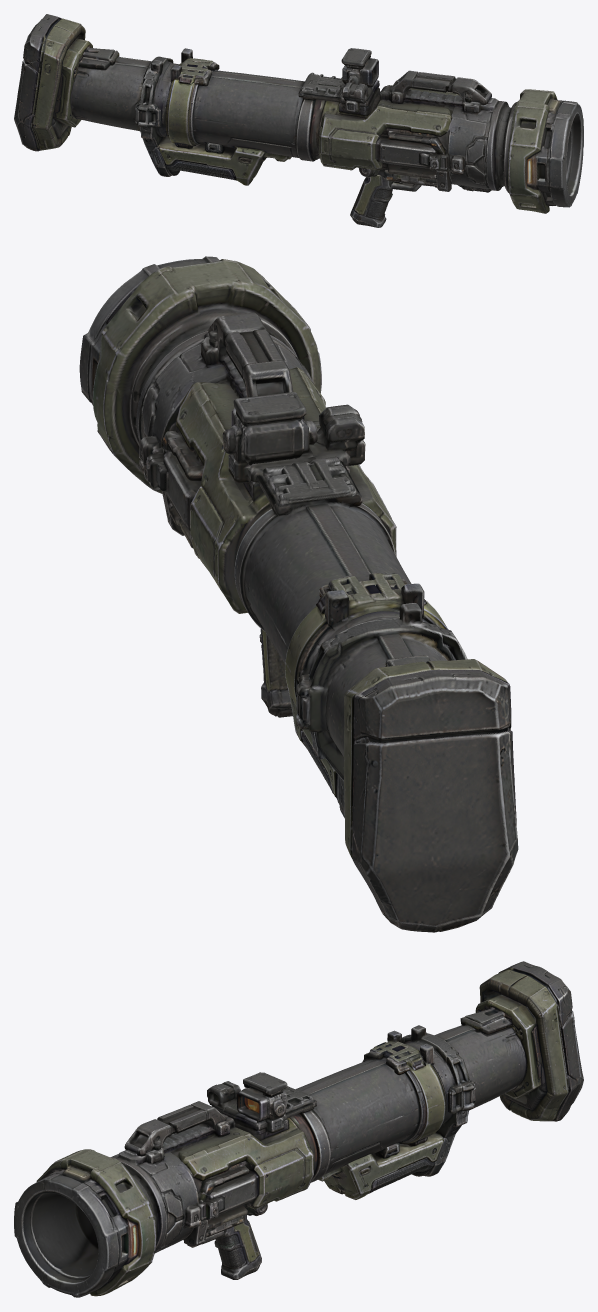
File: rocket-launcher-textured-v2.glb
3 views of the same model, one above another, from view 1: azimuth 30°, elevation 25°; view 2: azimuth 150°, elevation 25°; view 3: azimuth 270°, elevation 25° (orthographic). The views are drawn at different scales.
Parts seen in each view (by area): view 1: tripo_node_bbe9636e-47a4-4733-b2cc-acf4eb0746cf; view 2: tripo_node_bbe9636e-47a4-4733-b2cc-acf4eb0746cf; view 3: tripo_node_bbe9636e-47a4-4733-b2cc-acf4eb0746cf.
Part boxes in pixels (x1,y1,x2,y2): tripo_node_bbe9636e-47a4-4733-b2cc-acf4eb0746cf: (14,14,583,227); tripo_node_bbe9636e-47a4-4733-b2cc-acf4eb0746cf: (79,256,518,932); tripo_node_bbe9636e-47a4-4733-b2cc-acf4eb0746cf: (14,961,583,1297).
Bounding box in the file's own units: 0.924 × 0.3635 × 0.9794.
1 material, 1 textured.
